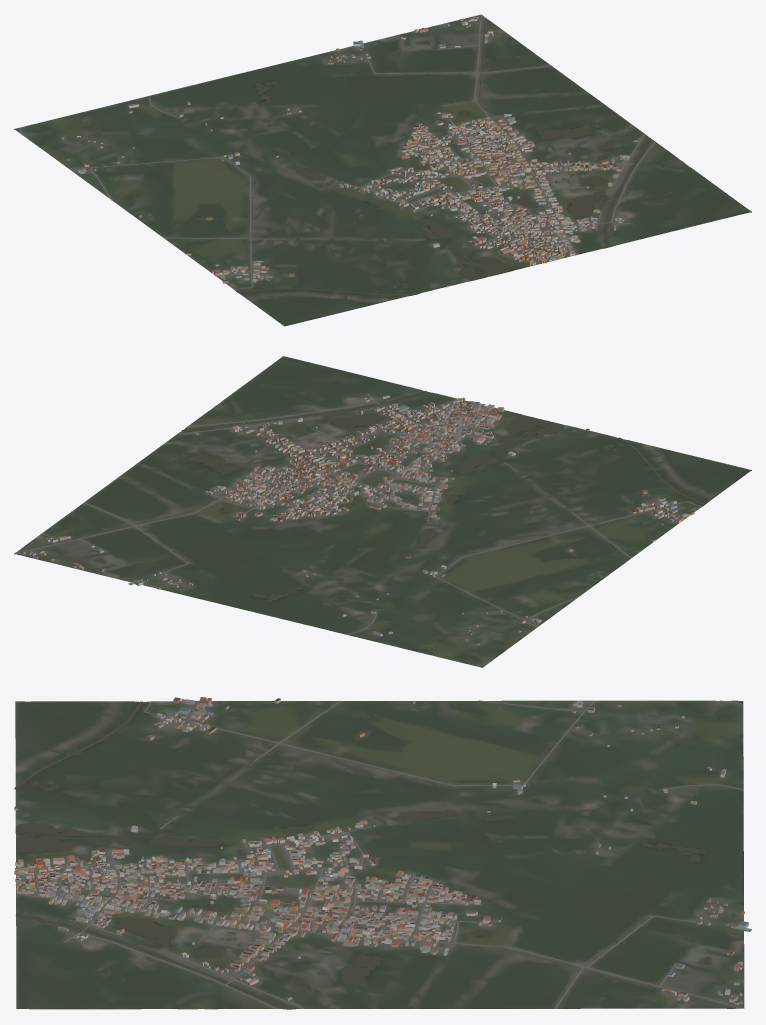
The picture shows the model from 3 angles, top to bottom: view 1: azimuth 30°, elevation 25°; view 2: azimuth 150°, elevation 25°; view 3: azimuth 270°, elevation 25°; orthographic projection. The views are drawn at different scales.
Visible parts, largest first — view 1: ground, buildings, water, roads; view 2: ground, buildings, water, roads; view 3: ground, buildings, water, roads.
Boxes of the visible parts, x1,y1,x2,y2 form: ground: (14,14,751,326); buildings: (61,15,638,287); water: (228,17,687,295); roads: (19,15,655,289); ground: (14,356,751,667); buildings: (21,395,694,645); water: (18,391,705,601); roads: (15,394,701,666); ground: (15,700,744,1009); buildings: (14,697,751,1004); water: (14,701,733,1009); roads: (15,700,743,1008).
Bounding box in the file's own units: 1410 × 15.12 × 1421.
